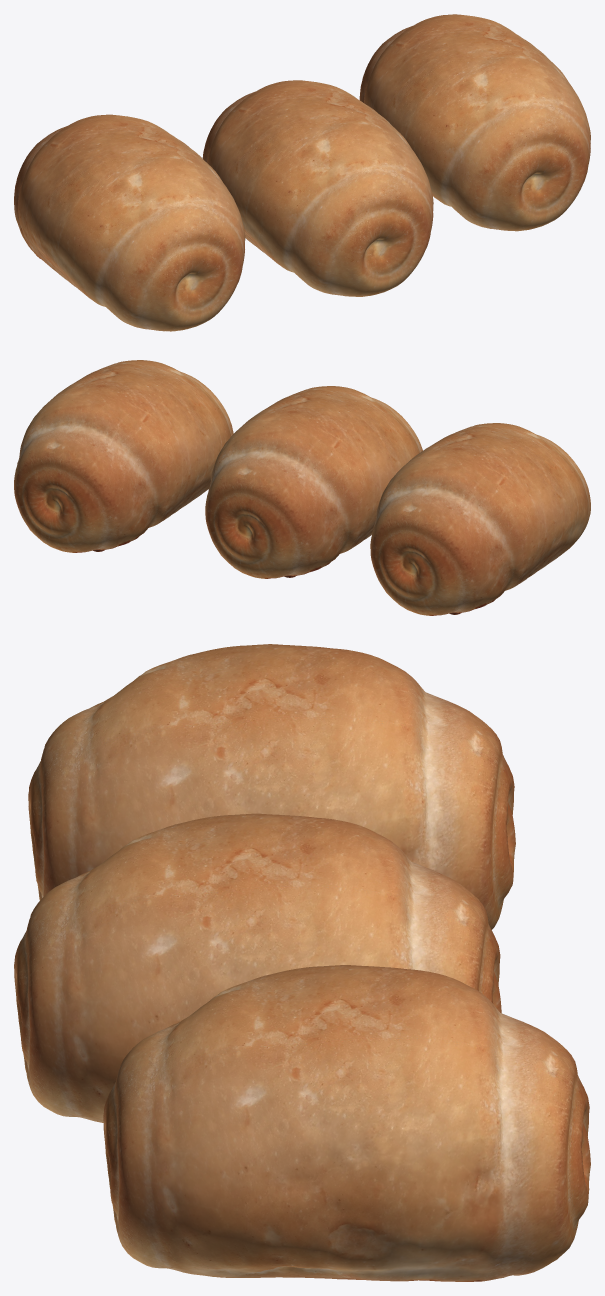
Rendered from Bunch of Bread.fbx.
The picture shows the model from 3 angles, top to bottom: view 1: azimuth 30°, elevation 25°; view 2: azimuth 150°, elevation 25°; view 3: azimuth 270°, elevation 25°; orthographic projection. The views are drawn at different scales.
Visible parts, largest first — view 1: Low, Low.001, Low.002; view 2: Low, Low.002, Low.001; view 3: Low.002, Low, Low.001.
Boxes of the visible parts, left/top/right/bottom form: Low: left=14, top=114, right=245, bottom=331; Low.001: left=202, top=80, right=433, bottom=296; Low.002: left=359, top=14, right=590, bottom=231; Low: left=370, top=423, right=590, bottom=615; Low.002: left=14, top=360, right=233, bottom=552; Low.001: left=205, top=386, right=422, bottom=578; Low.002: left=103, top=965, right=590, bottom=1281; Low: left=28, top=644, right=515, bottom=929; Low.001: left=14, top=813, right=501, bottom=1122.
Bounding box in the file's own units: 21.97 × 6.39 × 11.6.
3 materials, 3 textured.
